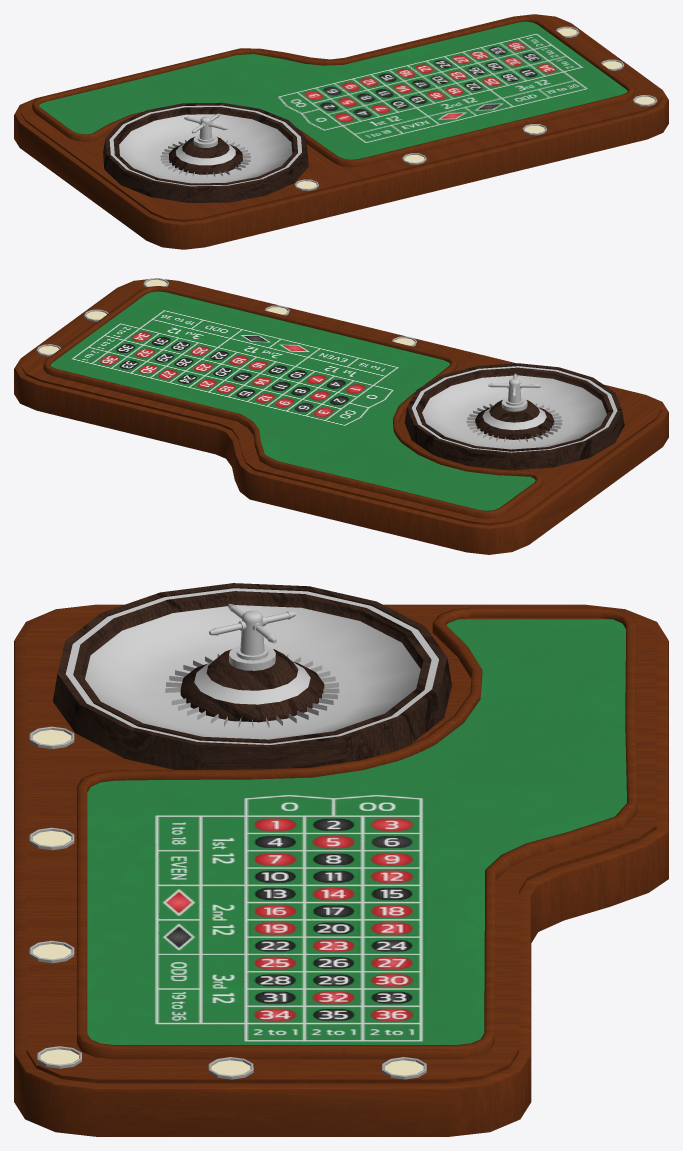
File: mesa_roleta.fbx
The picture shows the model from 3 angles, top to bottom: view 1: azimuth 30°, elevation 25°; view 2: azimuth 150°, elevation 25°; view 3: azimuth 270°, elevation 25°; orthographic projection. The views are drawn at different scales.
Visible parts, largest first — view 1: parte_ verde_roleta, mesa_roleta, roleta; view 2: parte_ verde_roleta, mesa_roleta, roleta; view 3: parte_ verde_roleta, mesa_roleta, roleta.
Part boxes in pixels (x1,y1,x2,y2): parte_ verde_roleta: (32, 16, 634, 167); mesa_roleta: (14, 14, 668, 249); roleta: (103, 102, 308, 203); parte_ verde_roleta: (43, 286, 542, 518); mesa_roleta: (14, 278, 668, 554); roleta: (404, 363, 624, 470); parte_ verde_roleta: (77, 607, 637, 1059); mesa_roleta: (14, 604, 668, 1136); roleta: (52, 583, 451, 769).
Size of the model in its own units: 1561 by 199 by 890.
